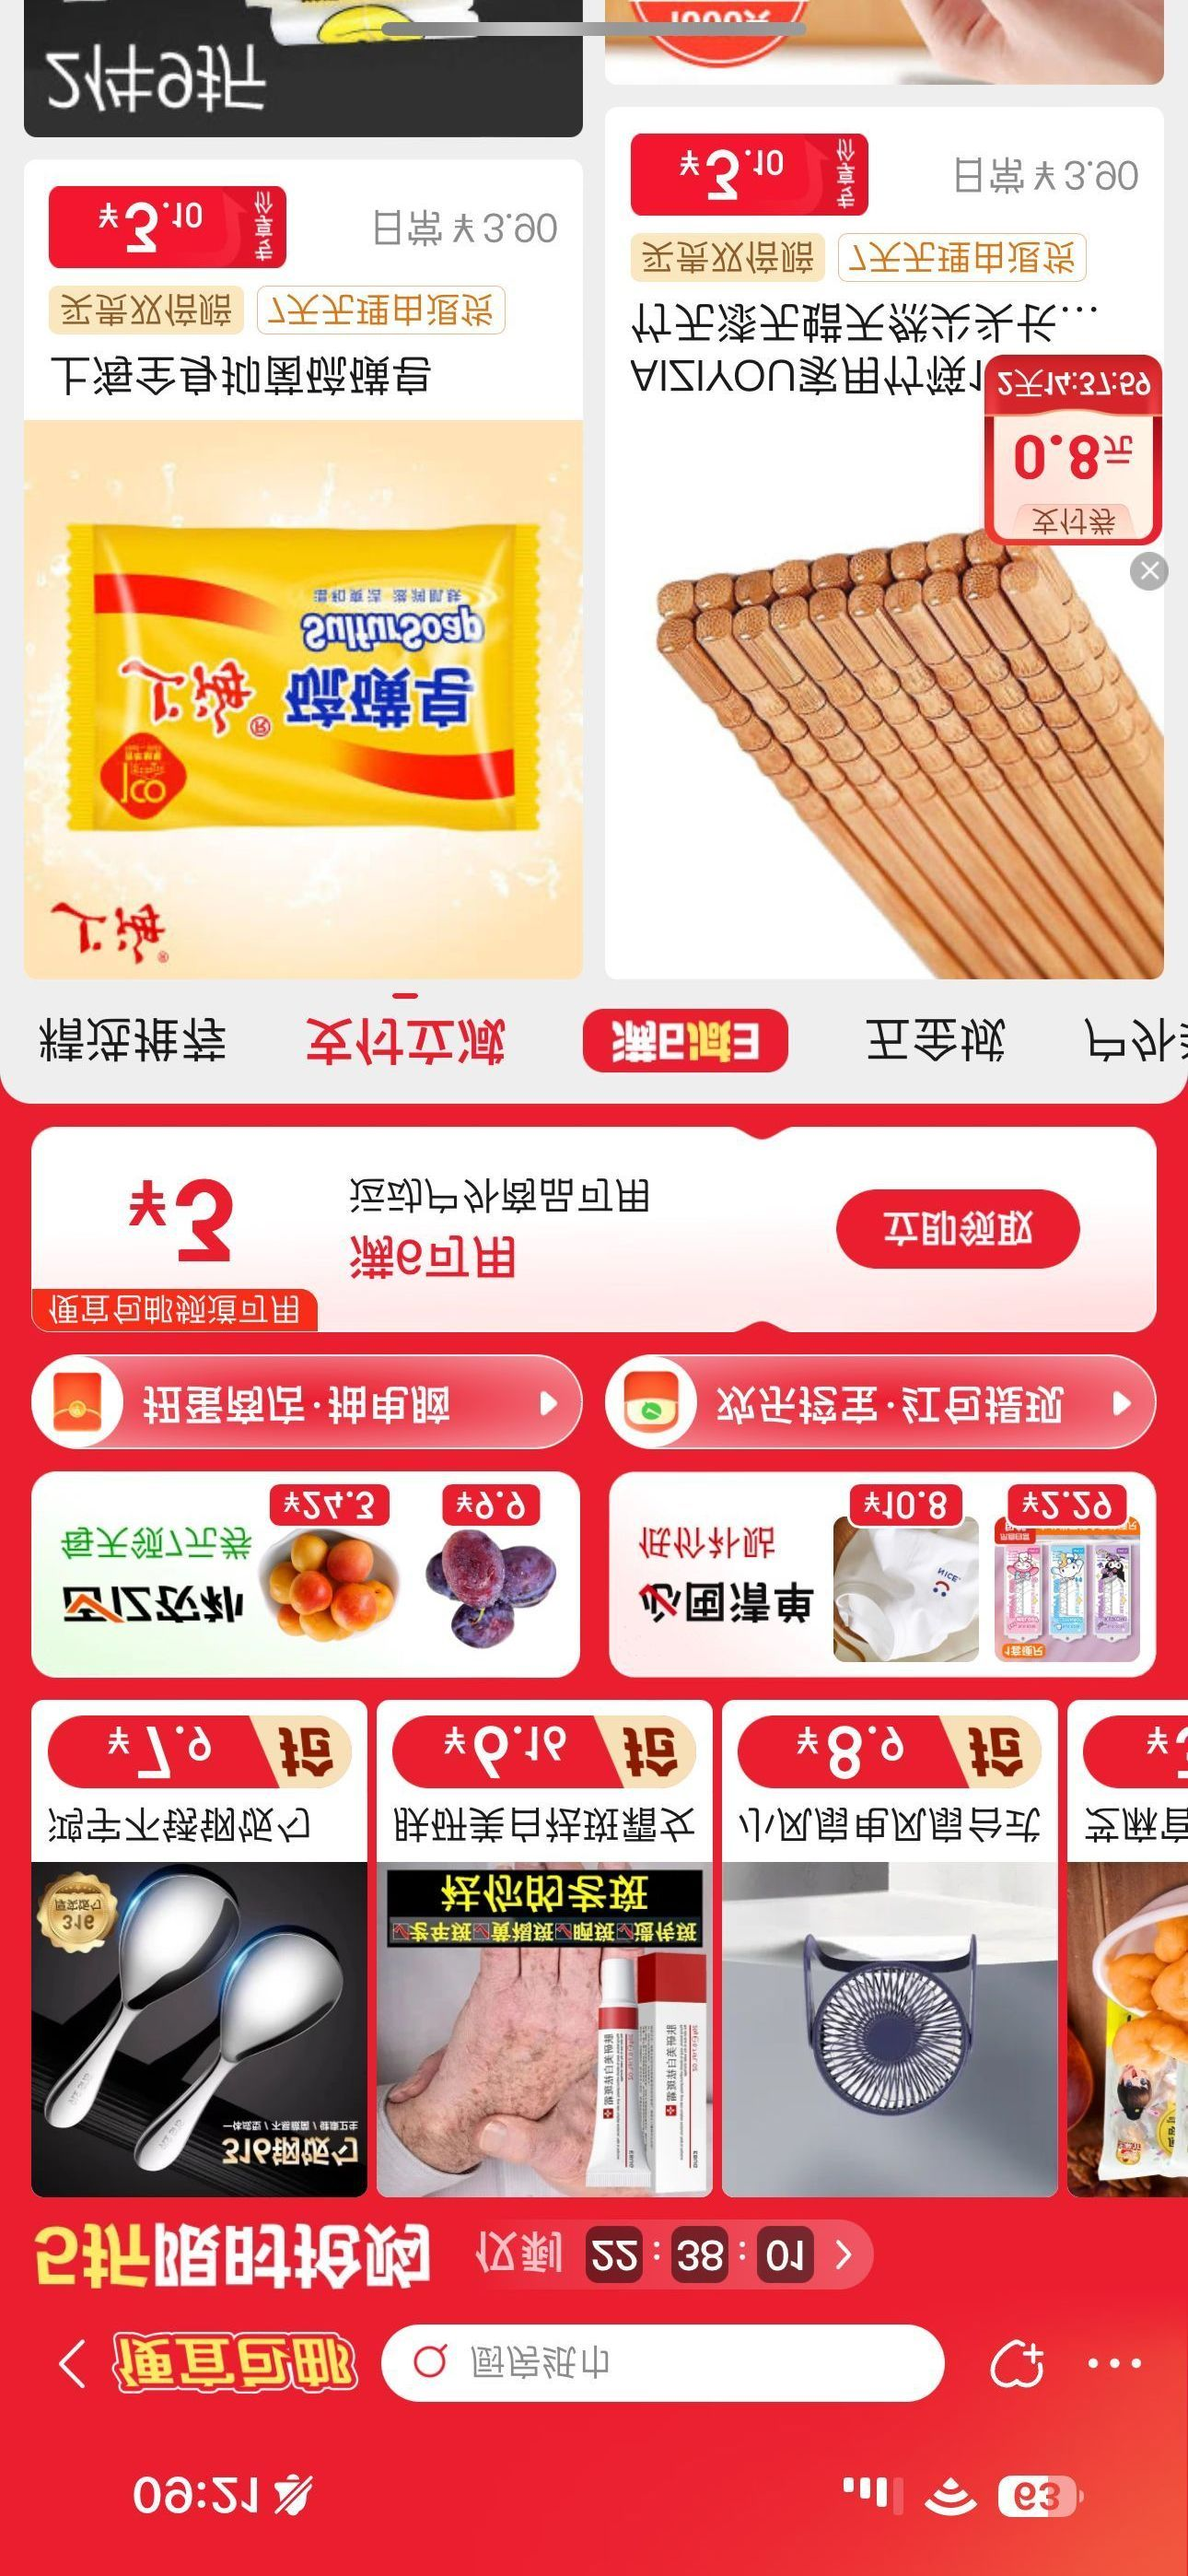banner: (12, 1117, 1188, 1352)
item: (595, 92, 1178, 991), (3, 148, 592, 994)
op_bar: (2, 2308, 1188, 2428)
seckill: (7, 1446, 1188, 2213)
